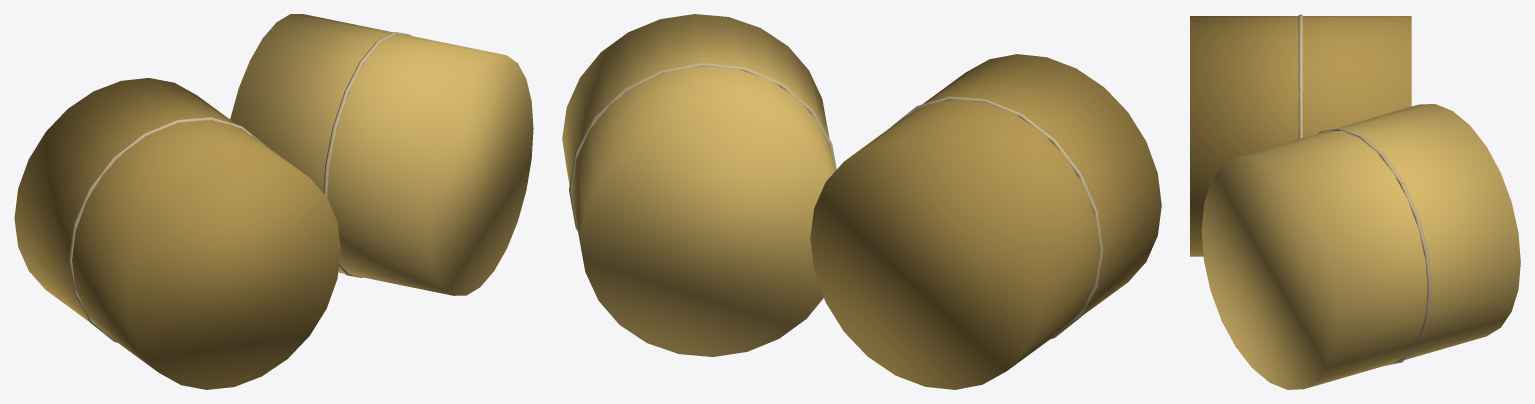
Rendered from heuballen_rund.glb.
3 renders of one model, left to right at view 1: azimuth 30°, elevation 25°; view 2: azimuth 150°, elevation 25°; view 3: azimuth 270°, elevation 25°, orthographic. The views are drawn at different scales.
Visible parts, largest first — view 1: Cylinder; view 2: Cylinder; view 3: Cylinder.
Part boxes in pixels (x1,y1,x2,y2): Cylinder: [14, 14, 533, 389]; Cylinder: [562, 14, 1161, 389]; Cylinder: [1190, 14, 1520, 389].
Bounding box in the file's own units: 2.72 × 1.22 × 1.64.
